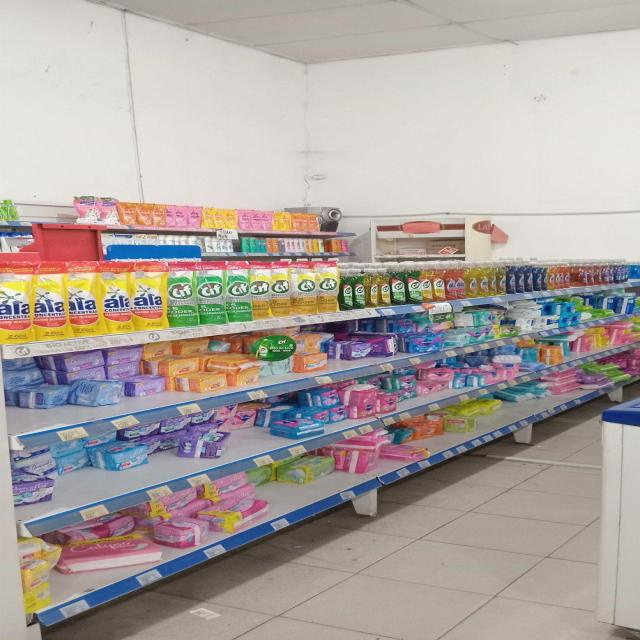ala_conc_amarillo: (464, 262, 480, 298), (478, 262, 492, 296)
ala_conc_azul: (507, 260, 523, 294), (493, 260, 508, 295), (517, 258, 529, 294), (532, 260, 544, 291), (628, 262, 640, 283)
ala_conc_rojo: (445, 261, 463, 300), (547, 260, 567, 290), (602, 261, 619, 284), (571, 261, 586, 287), (588, 261, 600, 286)
ala_sachet_amarillo: (32, 261, 66, 340), (0, 260, 31, 344), (68, 261, 100, 337), (132, 262, 166, 331), (101, 261, 130, 334)
cif_conc_bot_amarilla: (368, 266, 384, 307), (429, 262, 445, 302)
cif_conc_botella_verde: (346, 268, 366, 310), (407, 262, 425, 304), (390, 264, 406, 305)
cif_conc_sachet_amarillo: (292, 259, 316, 315), (270, 260, 291, 317), (250, 260, 270, 319), (317, 260, 339, 313)
cif_conc_sachet_verde: (168, 262, 197, 327), (198, 260, 226, 326), (228, 260, 250, 322)
magistral_con_amarillo: (278, 452, 307, 484)
